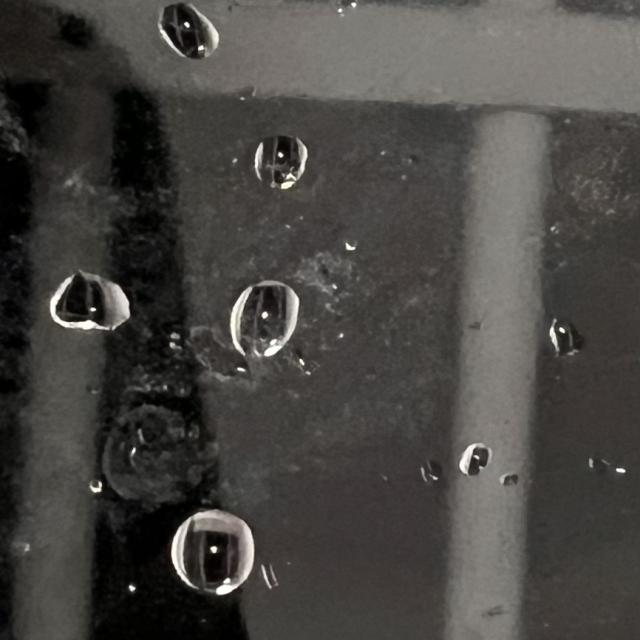raindrop: (161, 505, 263, 598), (43, 262, 143, 336), (231, 268, 299, 370), (144, 0, 236, 72), (241, 125, 324, 192), (538, 314, 587, 362), (586, 447, 625, 496), (466, 438, 503, 476), (414, 456, 447, 484)
